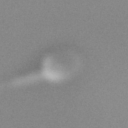normal: (1, 62, 40, 94)
